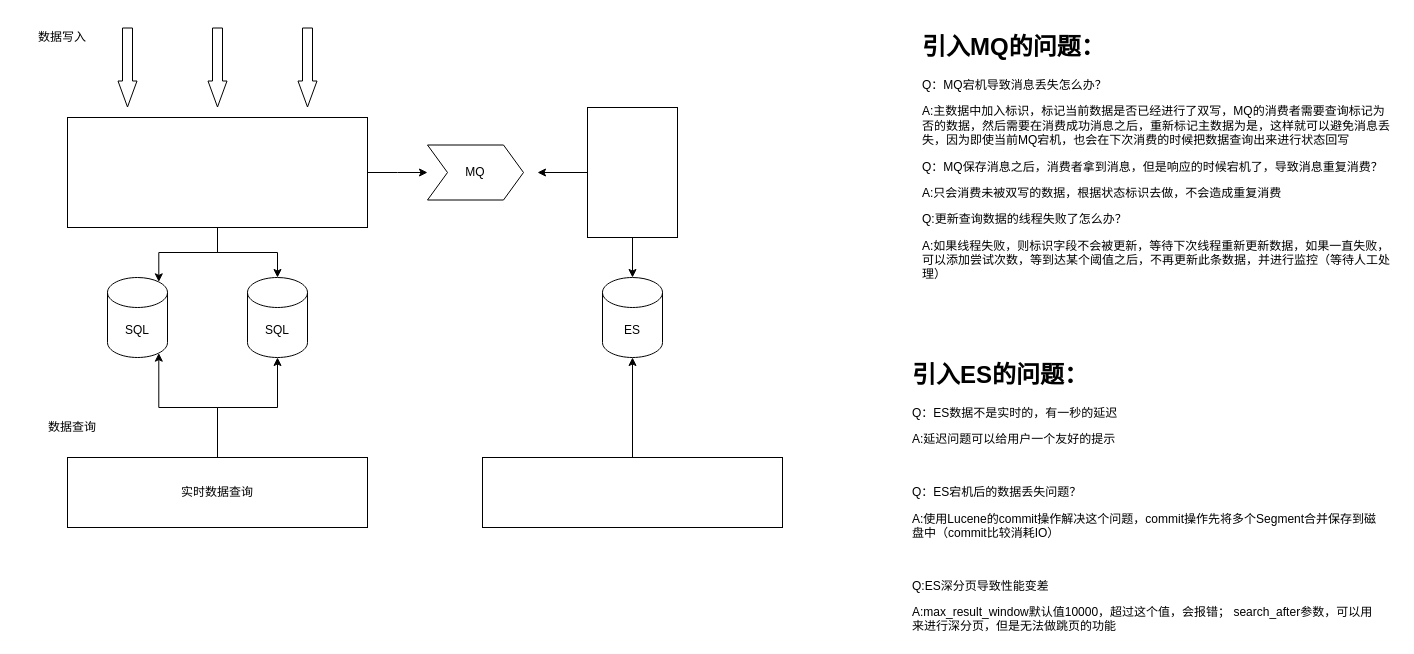
The diagram is 1414 pixels wide and 654 high, and some of its shapes have lost their labels. Each missing label, with the centre of its shape:
业务线程处理数据: (217,172)
单独开启线程消费MQ消息: (632,172)
报表数据查询: (632,492)
